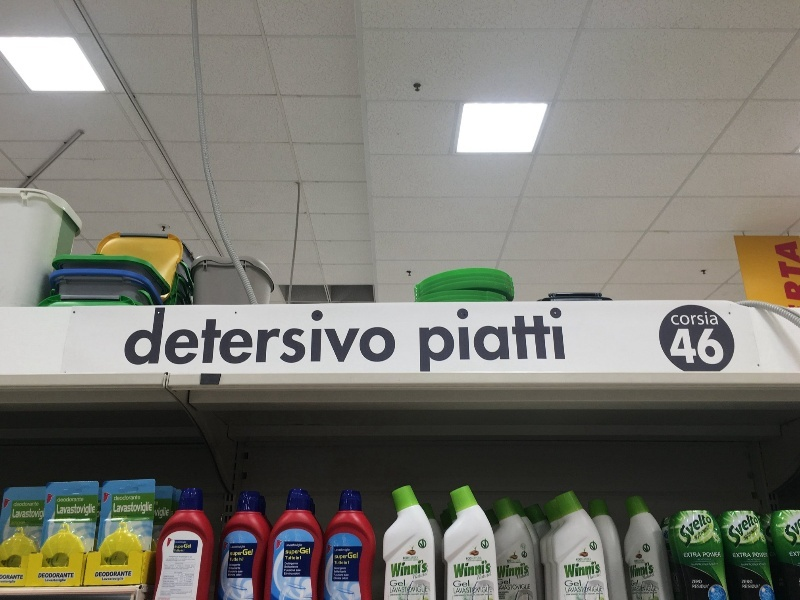text: (433, 308, 448, 372), (449, 308, 464, 372), (465, 308, 480, 372), (481, 308, 496, 372), (497, 308, 512, 372), (513, 308, 528, 372), (529, 308, 544, 372), (545, 308, 560, 372), (129, 311, 144, 366), (145, 311, 160, 366), (161, 311, 176, 366), (177, 311, 192, 366), (193, 311, 208, 366), (209, 311, 224, 366), (225, 311, 240, 366), (241, 311, 256, 366), (257, 311, 272, 366), (273, 311, 288, 366), (289, 311, 304, 366), (305, 311, 320, 366), (321, 311, 336, 366), (337, 311, 352, 366), (353, 311, 368, 366), (369, 311, 384, 366), (385, 311, 399, 366), (420, 308, 432, 372), (673, 329, 688, 364), (689, 329, 704, 364), (705, 329, 720, 364), (689, 512, 704, 547), (737, 514, 752, 547), (785, 519, 800, 547), (679, 512, 688, 547), (401, 560, 416, 578), (728, 514, 736, 547), (561, 308, 565, 372), (577, 561, 592, 578), (465, 561, 480, 578), (705, 512, 712, 547), (497, 563, 512, 578), (513, 563, 528, 578), (673, 312, 688, 326), (689, 312, 704, 326), (564, 561, 576, 578), (705, 312, 719, 326), (65, 503, 80, 516), (641, 562, 653, 578), (81, 503, 95, 516), (417, 560, 427, 578), (129, 502, 144, 514), (17, 508, 32, 520), (454, 561, 464, 578), (481, 561, 491, 578), (114, 502, 128, 514), (753, 514, 758, 547), (391, 560, 400, 578), (694, 524, 704, 540), (630, 562, 640, 578), (33, 508, 45, 520), (465, 585, 480, 594), (743, 526, 752, 540), (289, 548, 304, 556), (97, 511, 112, 519), (593, 561, 600, 578), (481, 570, 491, 581), (417, 570, 428, 580), (721, 329, 724, 364), (577, 586, 592, 593), (401, 586, 416, 593), (337, 552, 352, 559), (643, 572, 656, 580), (161, 507, 169, 520), (481, 585, 492, 594), (516, 572, 528, 580), (241, 549, 253, 557), (57, 503, 64, 516), (454, 585, 464, 594), (498, 579, 512, 585), (145, 502, 152, 514), (705, 524, 710, 540), (705, 552, 721, 557), (641, 586, 657, 591), (675, 577, 688, 583), (154, 507, 160, 520), (565, 580, 576, 587), (513, 585, 528, 590), (97, 572, 112, 577), (113, 572, 128, 577), (17, 502, 32, 507), (593, 571, 601, 580), (231, 549, 240, 557), (737, 553, 751, 558), (753, 526, 758, 540), (566, 586, 576, 593), (390, 586, 400, 593), (417, 586, 427, 593), (177, 544, 191, 549), (114, 496, 128, 501), (98, 502, 112, 507), (689, 552, 702, 557), (593, 586, 602, 593), (391, 580, 400, 587), (753, 553, 768, 557), (676, 588, 688, 593), (500, 585, 512, 590), (454, 581, 464, 587), (129, 496, 141, 501), (65, 498, 80, 502), (49, 574, 64, 578), (1, 575, 16, 579), (770, 553, 784, 557), (466, 557, 480, 561), (289, 556, 302, 560), (692, 580, 704, 584), (337, 561, 349, 565), (779, 578, 784, 587), (631, 581, 640, 586), (577, 559, 592, 562), (113, 516, 128, 519), (49, 579, 64, 582), (1, 581, 16, 584), (789, 552, 800, 556), (693, 585, 704, 589), (742, 580, 752, 584), (632, 586, 640, 591), (305, 548, 310, 556), (230, 558, 240, 562), (691, 563, 704, 566), (705, 563, 718, 566), (337, 549, 350, 552), (289, 544, 302, 547), (743, 585, 752, 589), (404, 557, 416, 560), (228, 574, 240, 577), (39, 574, 48, 578), (65, 574, 74, 578), (13, 508, 16, 520), (577, 580, 582, 587), (353, 552, 358, 559), (477, 570, 480, 581), (229, 564, 240, 567), (113, 578, 124, 581), (513, 560, 521, 564), (465, 581, 470, 587), (413, 570, 416, 580), (337, 571, 347, 574), (102, 578, 112, 581), (33, 502, 39, 507), (753, 585, 760, 589), (578, 594, 592, 596), (401, 580, 405, 587), (402, 594, 416, 596), (17, 575, 24, 579), (589, 571, 592, 580), (289, 562, 298, 565), (231, 546, 240, 549), (753, 564, 766, 566), (643, 593, 656, 595), (499, 592, 512, 594), (467, 595, 480, 597), (155, 501, 160, 506), (596, 593, 608, 595), (58, 498, 64, 502), (741, 564, 752, 566), (485, 594, 496, 596), (229, 568, 240, 570), (229, 571, 240, 573), (697, 558, 704, 561), (337, 574, 344, 577), (289, 569, 296, 572), (684, 552, 688, 557), (705, 585, 710, 589), (635, 560, 640, 564), (507, 560, 512, 564), (566, 594, 576, 596), (502, 592, 512, 594), (454, 595, 464, 597), (342, 578, 352, 580), (289, 566, 299, 568), (294, 573, 304, 575), (705, 558, 711, 561), (337, 568, 346, 570), (177, 542, 186, 544), (753, 559, 761, 561), (641, 560, 645, 564), (286, 548, 288, 556), (296, 570, 304, 572), (177, 550, 185, 552), (733, 553, 736, 558), (129, 572, 132, 577), (633, 593, 640, 595), (345, 575, 352, 577), (169, 556, 176, 558), (499, 598, 512, 599), (499, 596, 512, 597), (420, 594, 432, 595), (285, 556, 288, 560), (284, 569, 288, 572), (284, 573, 288, 576), (289, 573, 293, 576), (241, 546, 245, 549), (241, 558, 244, 562), (236, 574, 240, 577), (81, 498, 84, 502), (747, 559, 752, 561), (702, 552, 704, 557), (459, 595, 464, 597), (390, 595, 400, 596), (337, 578, 342, 580), (14, 502, 16, 507), (799, 579, 800, 588), (285, 562, 288, 565), (45, 579, 48, 582), (335, 552, 336, 559), (650, 593, 656, 594), (589, 593, 592, 595), (593, 593, 596, 595), (417, 557, 419, 560), (394, 595, 400, 596), (334, 571, 336, 574), (334, 574, 336, 577), (286, 544, 288, 547), (285, 566, 288, 568), (571, 594, 576, 595), (529, 585, 530, 590), (411, 594, 416, 595), (175, 544, 176, 549), (481, 557, 482, 561), (481, 595, 485, 596), (335, 561, 336, 565), (334, 568, 336, 570), (334, 578, 336, 580), (238, 571, 240, 573), (241, 571, 243, 573), (637, 593, 640, 594), (477, 595, 480, 596), (417, 594, 420, 595), (335, 549, 336, 552), (241, 574, 242, 577), (65, 579, 66, 582), (641, 593, 643, 594), (465, 595, 466, 597), (175, 550, 176, 552)
